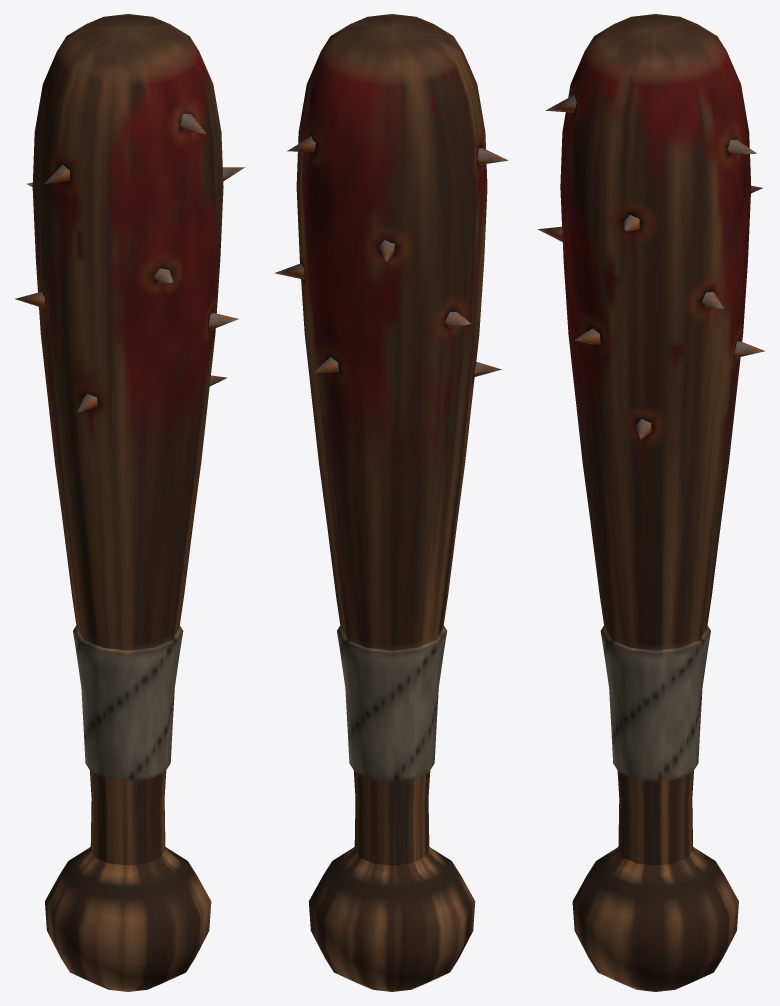
Rendered from nail_bat.gltf.
3 renders of one model, left to right at view 1: azimuth 30°, elevation 25°; view 2: azimuth 150°, elevation 25°; view 3: azimuth 270°, elevation 25°, orthographic.
Parts seen in each view (by area): view 1: NailBat; view 2: NailBat; view 3: NailBat.
Boxes of the visible parts, x1,y1,x2,y2 form: NailBat: [15, 14, 244, 991]; NailBat: [274, 14, 508, 991]; NailBat: [537, 14, 765, 991].
Size of the model in its own units: 5.76 by 25.88 by 5.63.
Materials: 1 (1 with a texture image).
